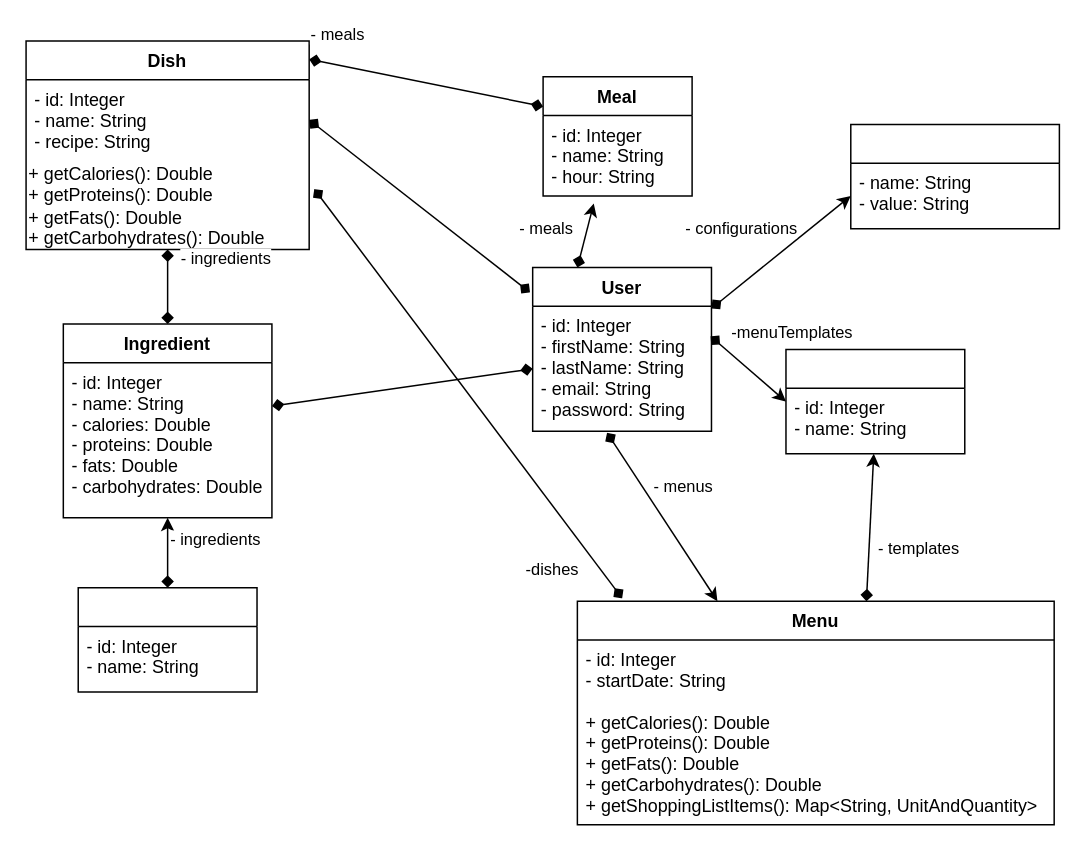
Some shapes in this 1086 by 855 pixel diagram are drawn without their labels. Each missing label, with the box of its shape:
FoodCategory: (77, 586, 257, 692)
MenuTemplate: (784, 348, 965, 454)
UserConfiguration: (849, 123, 1059, 229)
